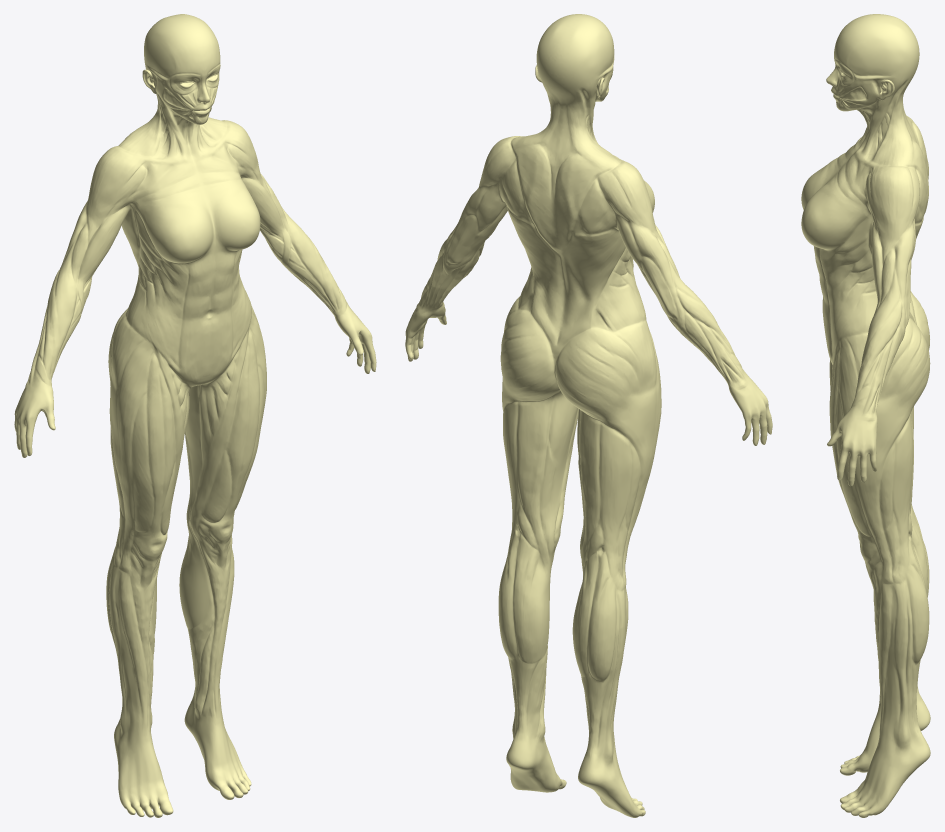
Rendered from female-adult-v3.glb.
The picture shows the model from 3 angles, left to right: view 1: azimuth 30°, elevation 25°; view 2: azimuth 150°, elevation 25°; view 3: azimuth 270°, elevation 25°; orthographic projection. The views are drawn at different scales.
Parts seen in each view (by area): view 1: Layer0_013; view 2: Layer0_013; view 3: Layer0_013.
Boxes of the visible parts, x1,y1,x2,y2 form: Layer0_013: [14, 14, 376, 817]; Layer0_013: [405, 14, 772, 817]; Layer0_013: [801, 14, 930, 817].
Size of the model in its own units: 0.8581 by 1.82 by 0.2752.
